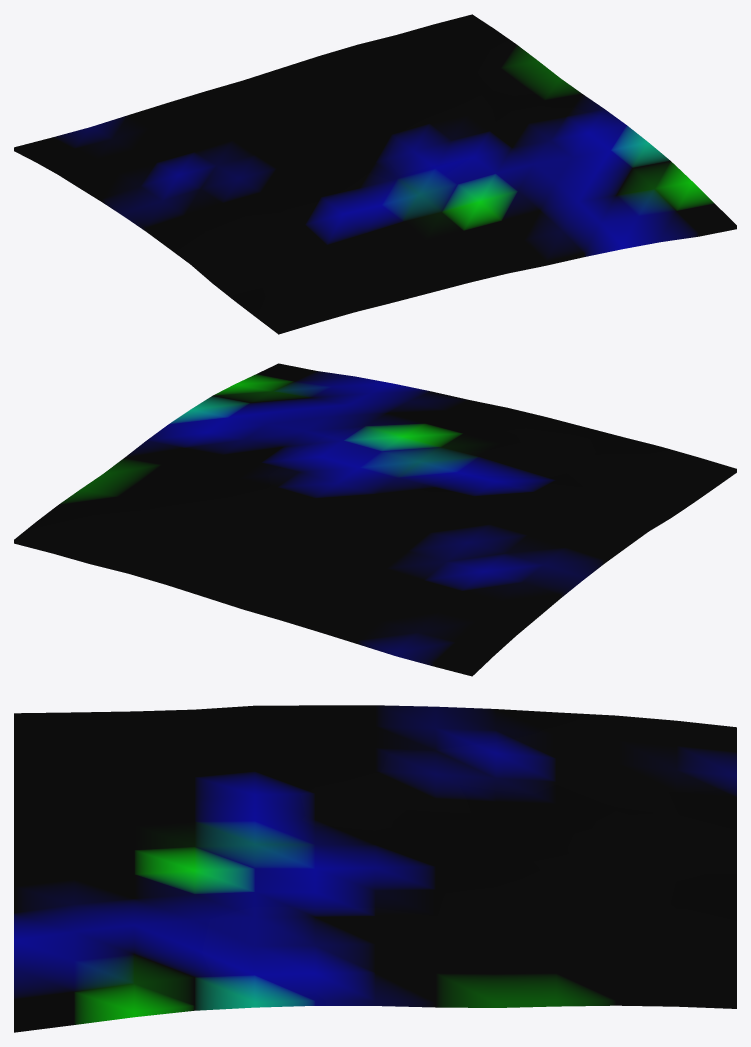
File: coast_3_3.glb
3 views of the same model, one above another, from view 1: azimuth 30°, elevation 25°; view 2: azimuth 150°, elevation 25°; view 3: azimuth 270°, elevation 25° (orthographic). The views are drawn at different scales.
Parts seen in each view (by area): view 1: terrain; view 2: terrain; view 3: terrain.
Part boxes in pixels (x1,y1,x2,y2): terrain: (14,14,736,334); terrain: (14,363,736,676); terrain: (14,705,736,1032).
Bounding box in the file's own units: 192 × 13.59 × 192.
